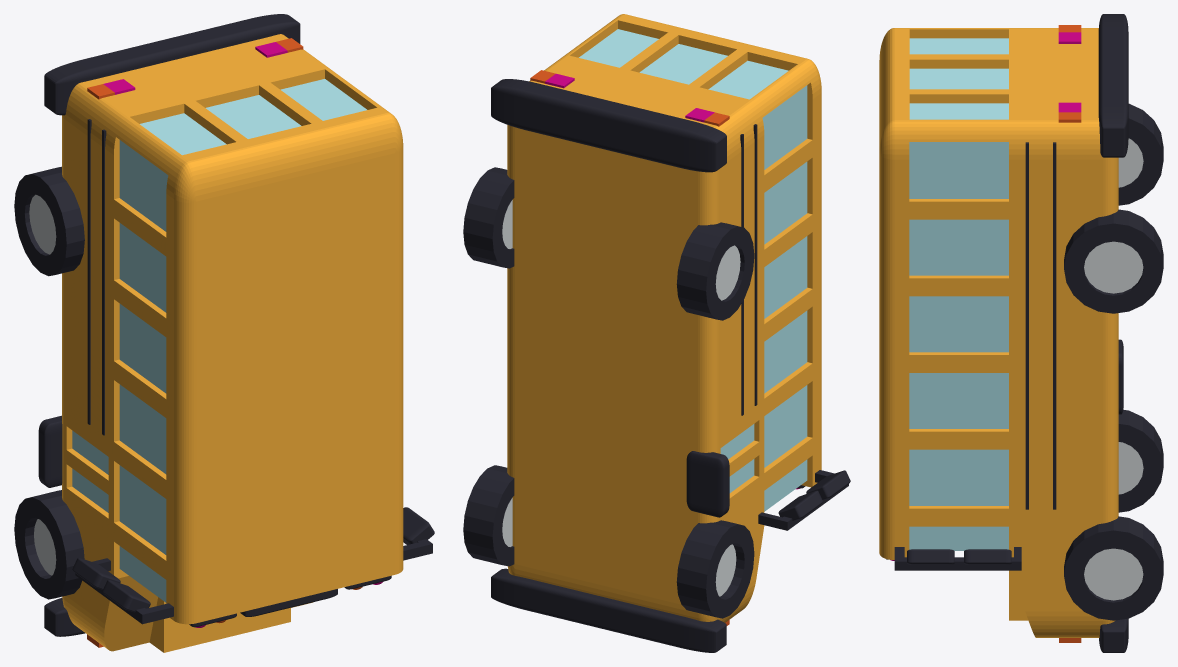
Rendered from school_bus.glb.
The picture shows the model from 3 angles, left to right: view 1: azimuth 30°, elevation 25°; view 2: azimuth 150°, elevation 25°; view 3: azimuth 270°, elevation 25°; orthographic projection. The views are drawn at different scales.
Visible parts, largest first — view 1: group_0_16757560, group_0_2829873, group_0_11593967, group_0_14541540, group_0_14093196, group_0_14900002; view 2: group_0_16757560, group_0_2829873, group_0_11593967, group_0_14541540, group_0_14093196; view 3: group_0_16757560, group_0_11593967, group_0_2829873, group_0_14541540, group_0_14900002, group_0_14093196.
Boxes of the visible parts, bbox=[...] form: group_0_16757560: bbox=[62, 34, 403, 652]; group_0_2829873: bbox=[14, 14, 434, 636]; group_0_11593967: bbox=[72, 79, 366, 602]; group_0_14541540: bbox=[29, 194, 56, 575]; group_0_14093196: bbox=[103, 42, 382, 627]; group_0_14900002: bbox=[87, 38, 362, 647]; group_0_16757560: bbox=[507, 14, 821, 622]; group_0_2829873: bbox=[463, 79, 850, 652]; group_0_11593967: bbox=[579, 29, 807, 511]; group_0_14541540: bbox=[502, 200, 740, 596]; group_0_14093196: bbox=[545, 73, 800, 489]; group_0_16757560: bbox=[879, 28, 1118, 637]; group_0_11593967: bbox=[909, 38, 1008, 550]; group_0_2829873: bbox=[886, 14, 1163, 652]; group_0_14541540: bbox=[1084, 138, 1143, 600]; group_0_14900002: bbox=[1058, 25, 1081, 642]; group_0_14093196: bbox=[890, 32, 1081, 560].
Size of the model in its own units: 5.78 by 10 by 4.81.
